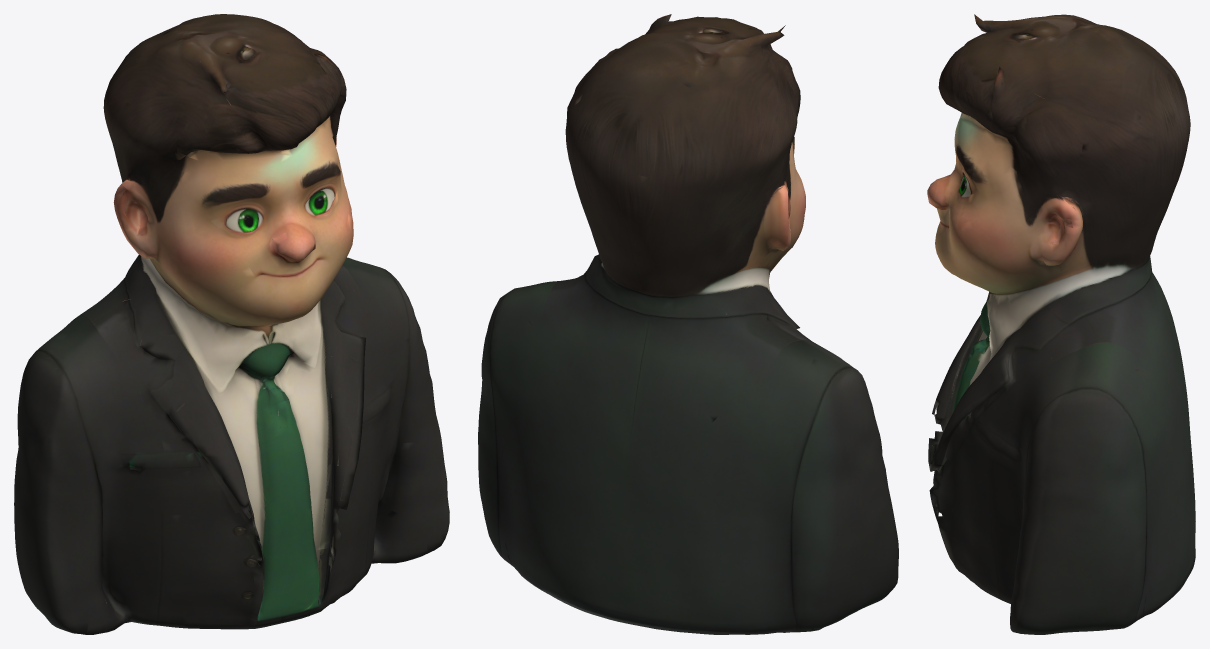
Rendered from Young_Professional_An_0423165427_texture.fbx.
3 views of the same model, side by side, from view 1: azimuth 30°, elevation 25°; view 2: azimuth 150°, elevation 25°; view 3: azimuth 270°, elevation 25° (orthographic). The views are drawn at different scales.
Visible parts, largest first — view 1: Mesh1; view 2: Mesh1; view 3: Mesh1.
Boxes of the visible parts, bbox=[...] form: Mesh1: bbox=[14, 14, 449, 634]; Mesh1: bbox=[478, 14, 898, 634]; Mesh1: bbox=[927, 14, 1195, 634].
Bounding box in the file's own units: 152 × 199 × 92.12.
1 material, 1 textured.
